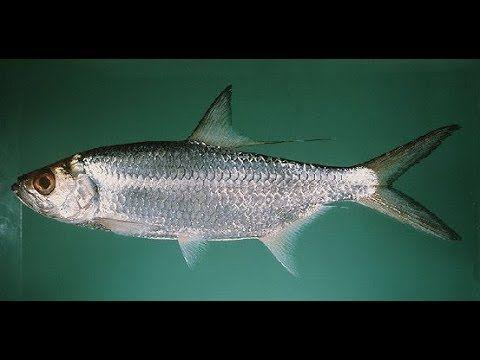Indo-Pacific Tarpon: (10, 81, 465, 278)
